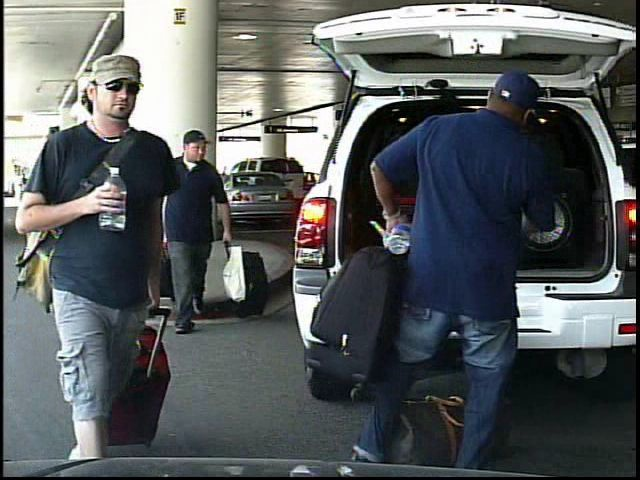person: (343, 66, 558, 470), (20, 50, 191, 477), (164, 117, 242, 328), (12, 169, 23, 200)
